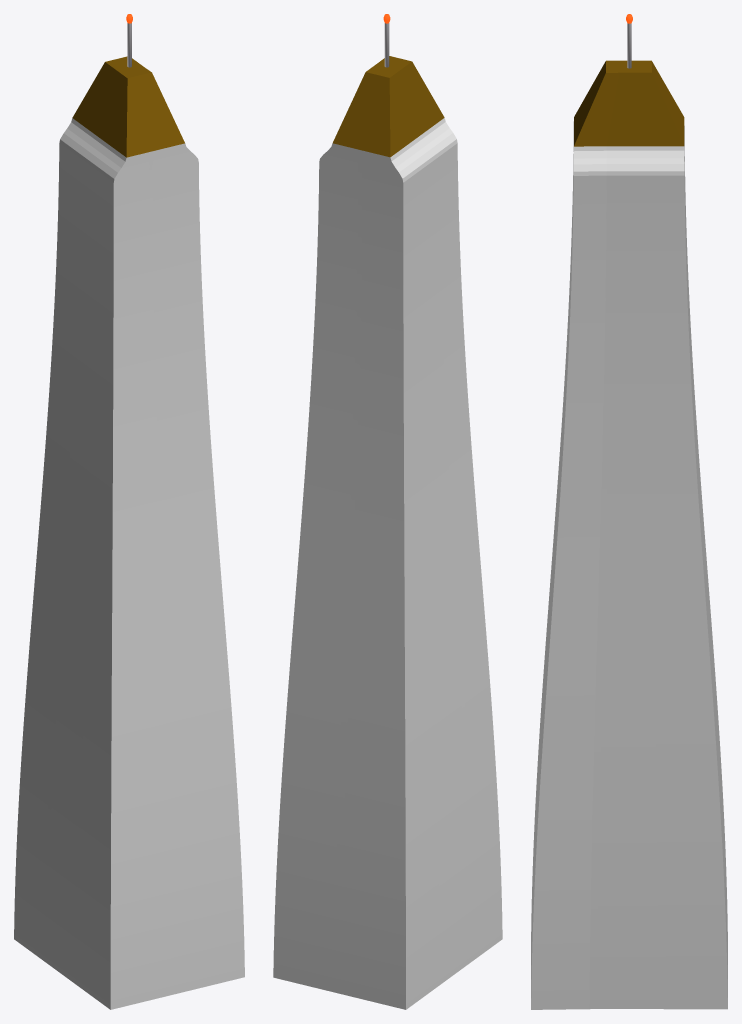
The picture shows the model from 3 angles, left to right: view 1: azimuth 30°, elevation 25°; view 2: azimuth 150°, elevation 25°; view 3: azimuth 270°, elevation 25°; orthographic projection.
Visible parts, largest first — view 1: MK1; view 2: MK1; view 3: MK1.
Part boxes in pixels (bbox=[...]): MK1: bbox=[14, 14, 244, 1009]; MK1: bbox=[273, 14, 502, 1009]; MK1: bbox=[531, 14, 727, 1009].
Bounding box in the file's own units: 657 × 4409 × 818.
